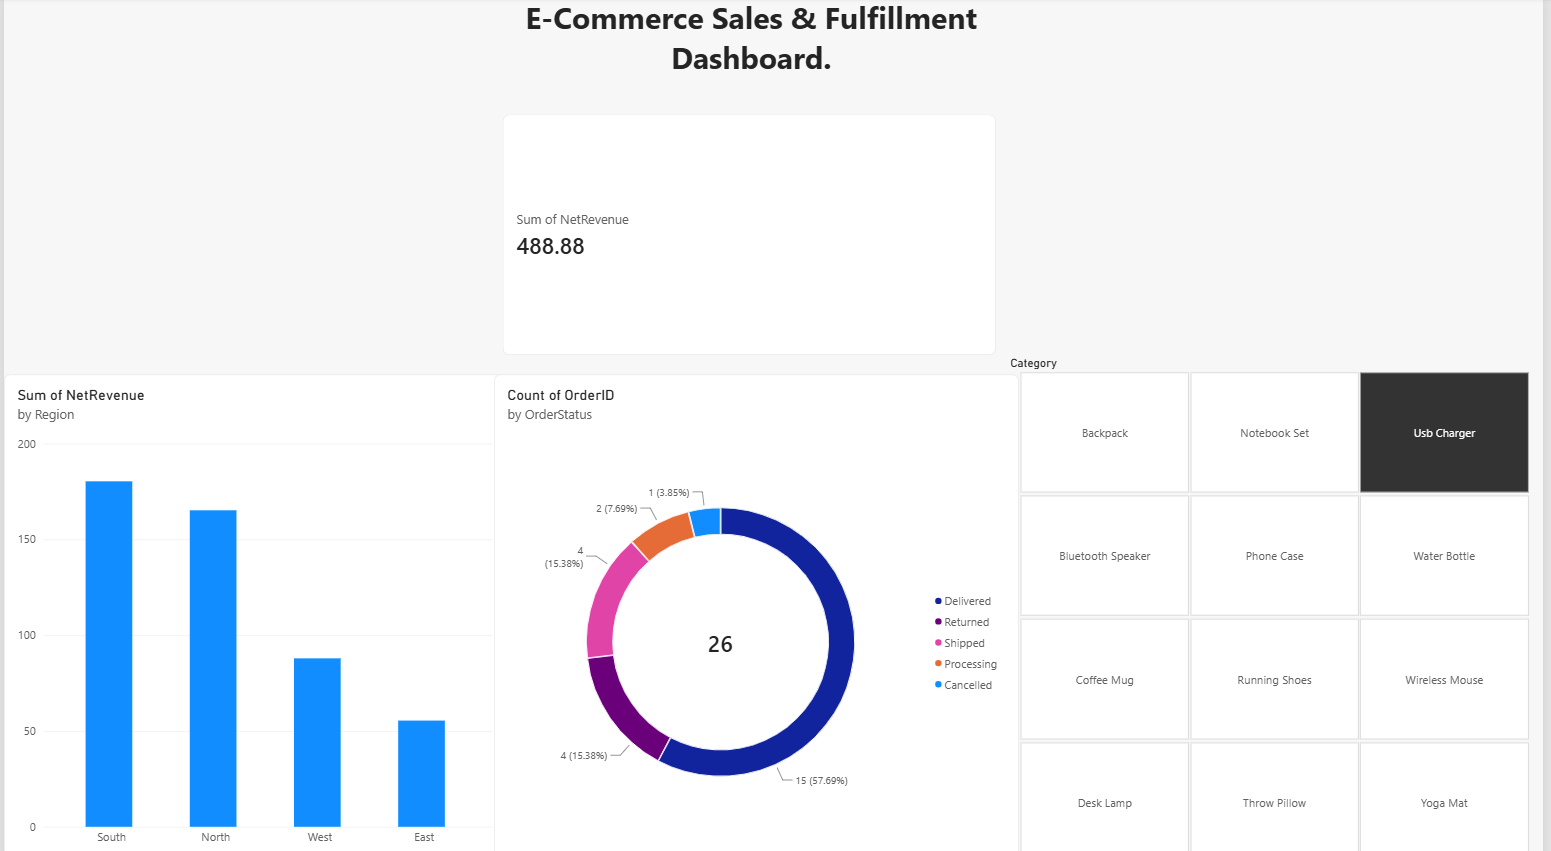

This screenshot's page, from the dashboard's own definition file:
{"tool":"powerbi","page":{"name":"Page 1","canvas":[1920,1080],"ordinal":0},"visuals":[{"type":"lineClusteredColumnComboChart","fields":{"Category":["ecommerce_sales_cleaned.Region"],"Y":["Sum(ecommerce_sales_cleaned.NetRevenue)"]},"box":[0,471.4,625.7,609.3],"z":0},{"type":"slicer","fields":{"Values":["ecommerce_sales_cleaned.Category"]},"box":[1247.1,447.4,673.1,634],"z":1},{"type":"donutChart","fields":{"Category":["ecommerce_sales_cleaned.OrderStatus"],"Y":["CountNonNull(ecommerce_sales_cleaned.OrderID)"]},"box":[611.3,471.4,654.5,609.3],"z":2},{"type":"cardVisual","fields":{"Data":["Sum(ecommerce_sales_cleaned.NetRevenue)"]},"box":[621.6,146.1,615.4,300.5],"z":3},{"type":"textbox","box":[10,634,626,446],"z":4},{"type":"textbox","box":[615,0,632,471],"z":6},{"type":"textbox","box":[100,100,300,300],"z":7}]}

Visuals, with their boxes in screenshot pixels (x1, y1, x2, y2), scaled from the page's 1920x1080 canvas onto the 1551x851 screenshot:
lineClusteredColumnComboChart - ecommerce_sales_cleaned.Region x Sum(ecommerce_sales_cleaned.NetRevenue): l=0, t=371, r=505, b=850
slicer - ecommerce_sales_cleaned.Category: l=1007, t=353, r=1550, b=850
donutChart - ecommerce_sales_cleaned.OrderStatus x CountNonNull(ecommerce_sales_cleaned.OrderID): l=494, t=371, r=1023, b=850
cardVisual - Sum(ecommerce_sales_cleaned.NetRevenue): l=502, t=115, r=999, b=352
textbox: l=8, t=500, r=514, b=850
textbox: l=497, t=0, r=1007, b=371
textbox: l=81, t=79, r=323, b=315
